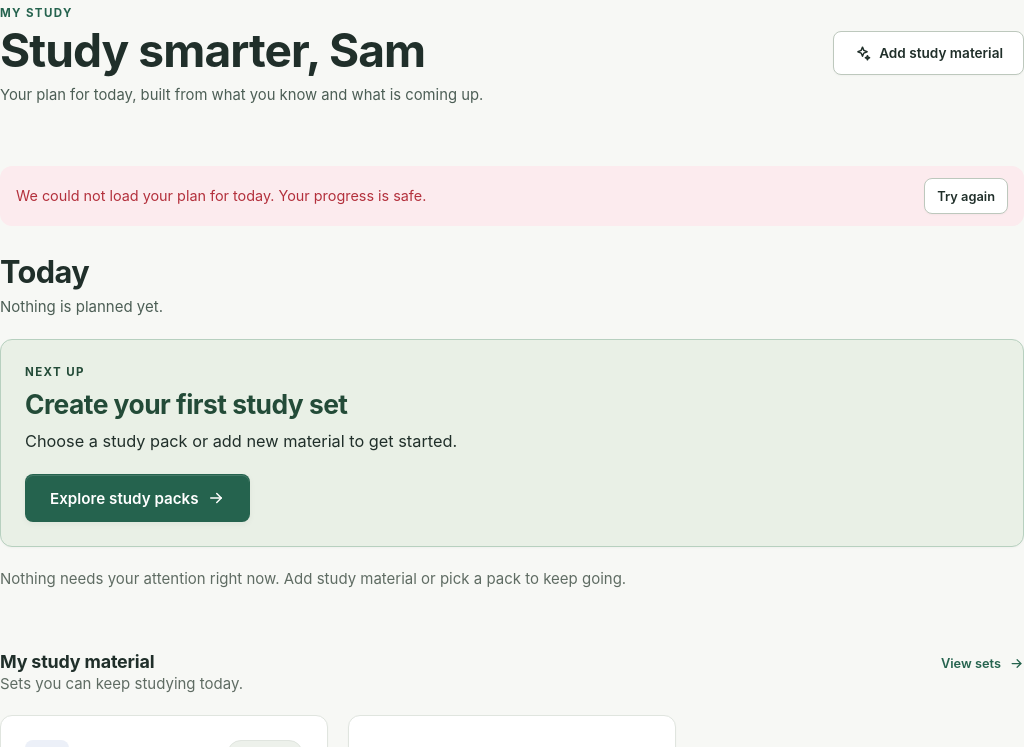
it: My Study — older servers and failures › keeps My Study usable and offers a retry when the plan cannot be loaded
The width and height of the screenshot is (1024, 747).
Expected: the message shows "We could not load your plan for today. Your progress is safe.", [16, 187, 426, 204]
Expected: the heading "My study material" is shown, [0, 651, 154, 672]
What coordinates should you click on to do the following:
click the button "Try again"
I would click on:
 (966, 196)
Its box is [924, 178, 1008, 214].
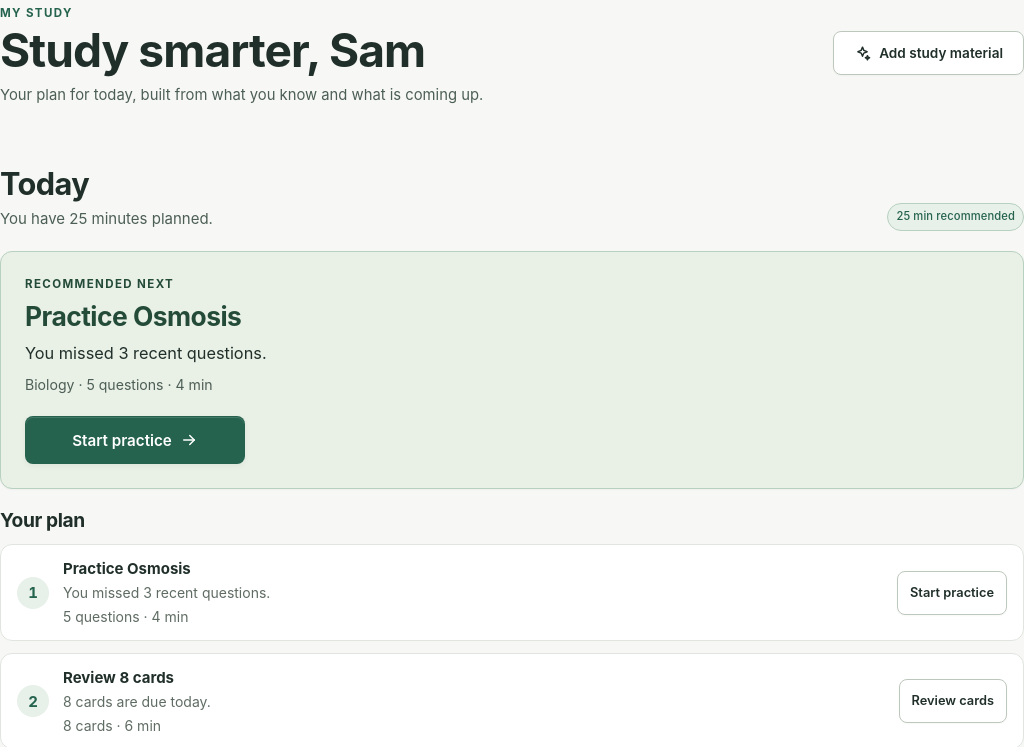
Expected: the heading "Practice Osmosis" is shown, [25, 301, 241, 333]
Expected: the message "We could not load your plan for today. Your progress is safe. Try again" is gone
